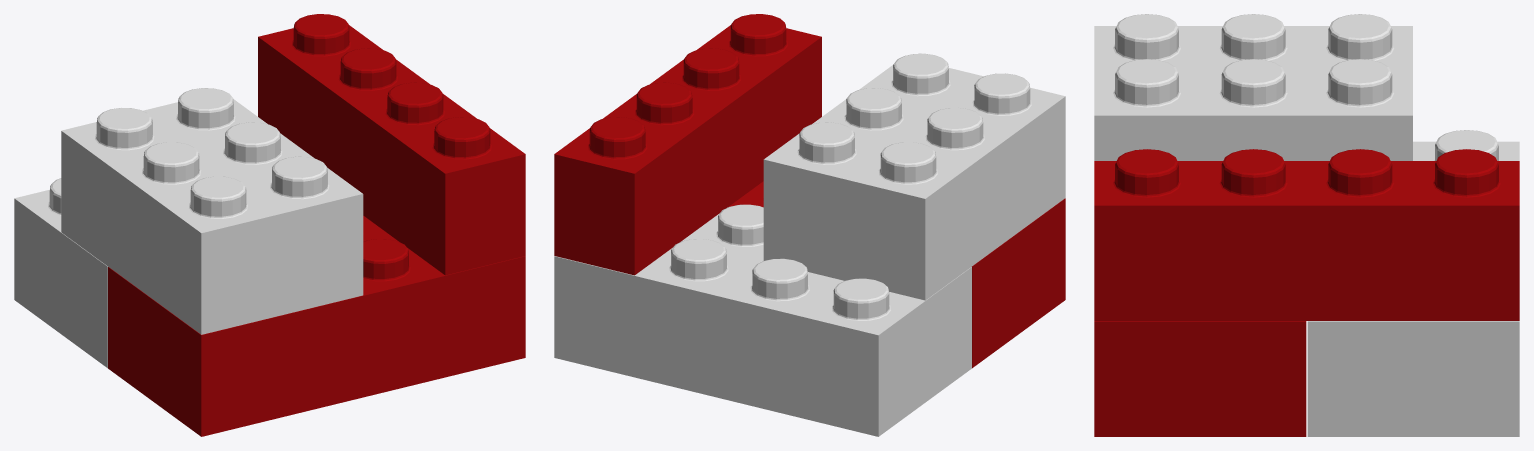
Rendered from mod0.dae.
3 renders of one model, left to right at view 1: azimuth 30°, elevation 25°; view 2: azimuth 150°, elevation 25°; view 3: azimuth 270°, elevation 25°, orthographic. The views are drawn at different scales.
Visible parts, largest first — view 1: Part.2, Part.1, Part.3, Part.0; view 2: Part.0, Part.2, Part.3, Part.1; view 3: Part.3, Part.2, Part.0, Part.1.
Boxes of the visible parts, x1=… form: Part.2: x1=61, y1=88, x2=363, y2=334; Part.1: x1=108, y1=216, x2=525, y2=436; Part.3: x1=258, y1=14, x2=525, y2=275; Part.0: x1=14, y1=178, x2=107, y2=368; Part.0: x1=554, y1=204, x2=971, y2=436; Part.2: x1=763, y1=53, x2=1065, y2=300; Part.3: x1=554, y1=14, x2=821, y2=275; Part.1: x1=728, y1=181, x2=1065, y2=368; Part.3: x1=1094, y1=149, x2=1519, y2=320; Part.2: x1=1094, y1=14, x2=1412, y2=160; Part.0: x1=1307, y1=130, x2=1519, y2=436; Part.1: x1=1094, y1=321, x2=1306, y2=436.
Bounding box in the file's own units: 31.92 × 20.98 × 31.92.
